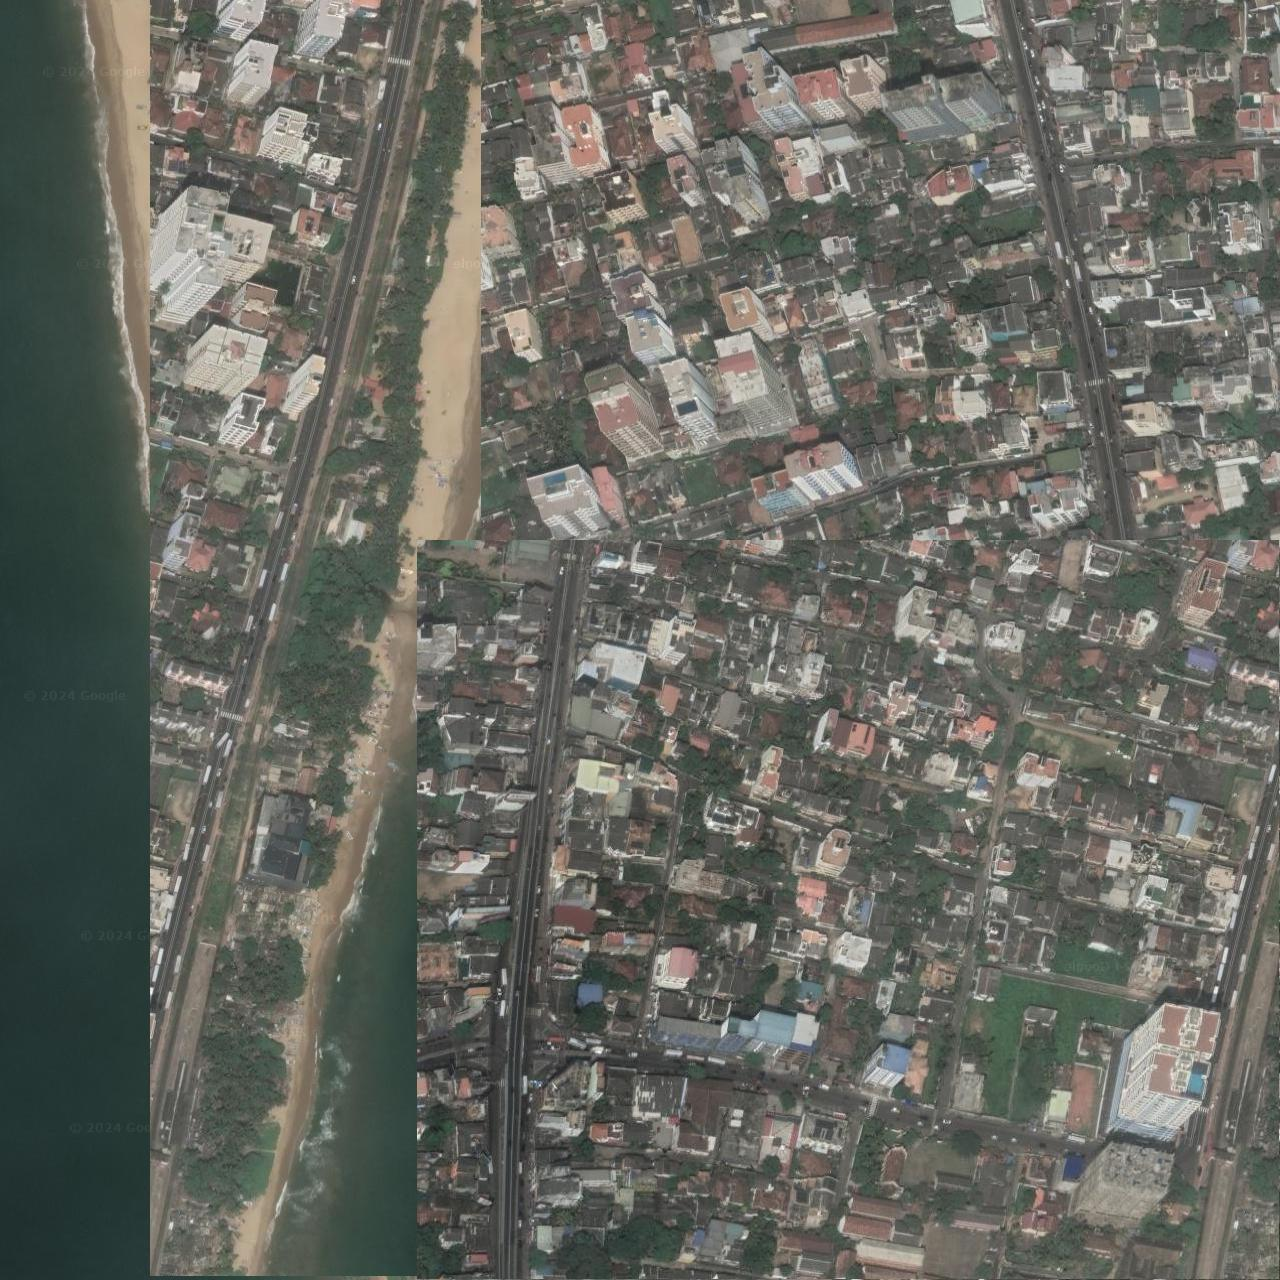greenery: (151, 0, 481, 1276)
house: (231, 0, 1280, 727), (417, 540, 1280, 1279)
water: (0, 4, 356, 1280)
